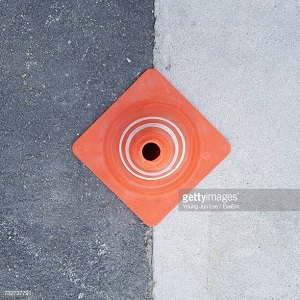traffic cone: (72, 68, 231, 226)
